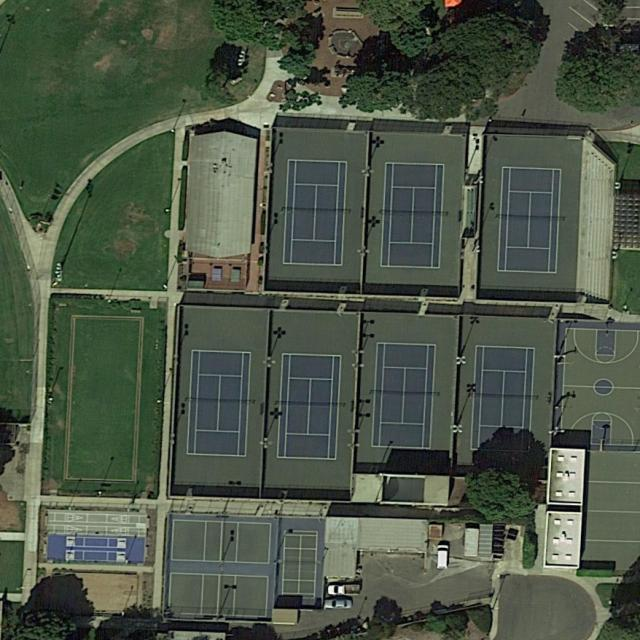large-vehicle: (327, 583, 361, 596), (436, 545, 450, 571)
small-vehicle: (323, 598, 355, 610)
